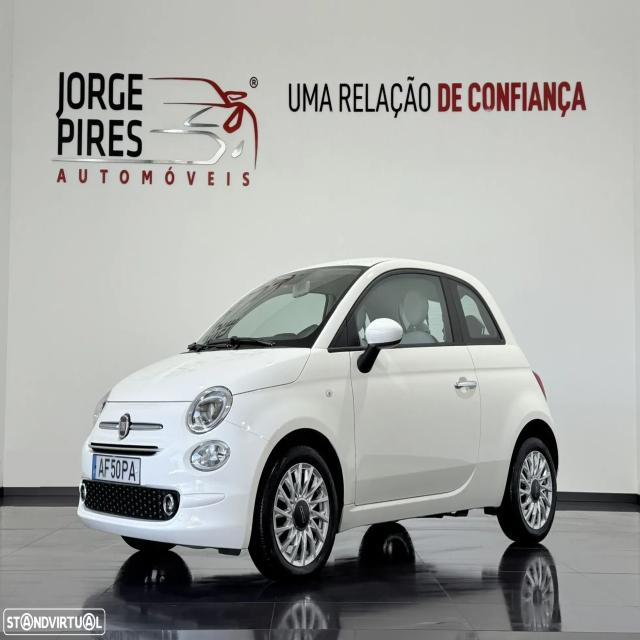portuguese-license-plates: (92, 454, 140, 485)
